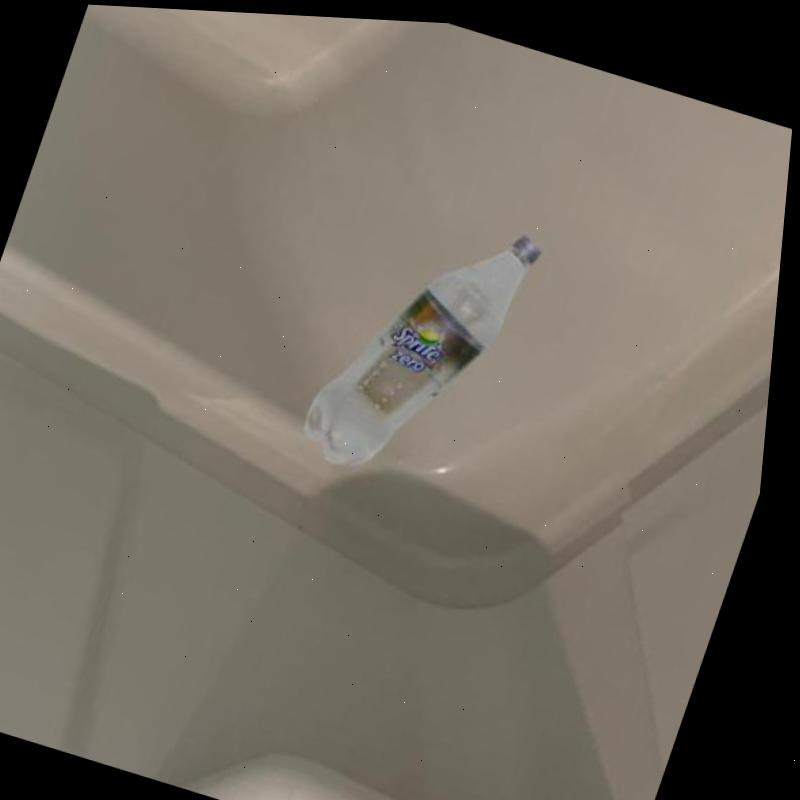botella: (297, 182, 550, 498)
